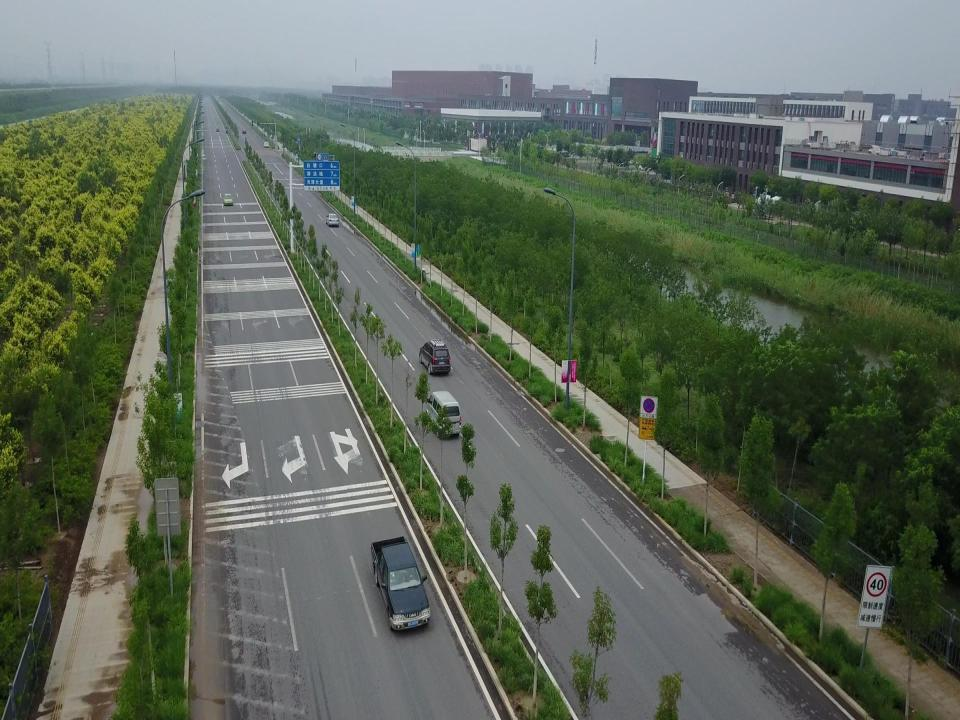car: (419, 338, 451, 374), (325, 213, 339, 227), (222, 194, 234, 206), (263, 141, 269, 148), (243, 129, 246, 133)
truck: (370, 535, 430, 631)
van: (426, 391, 462, 438)
